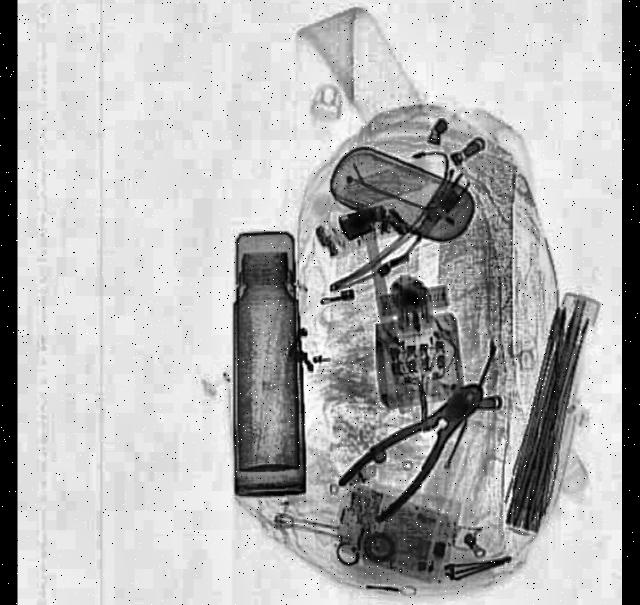Pliers: (335, 361, 498, 532)
